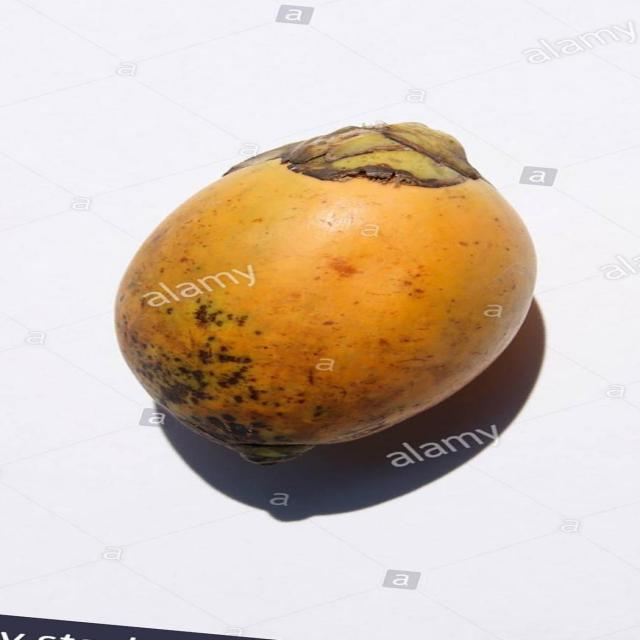good: (113, 122, 538, 467)
